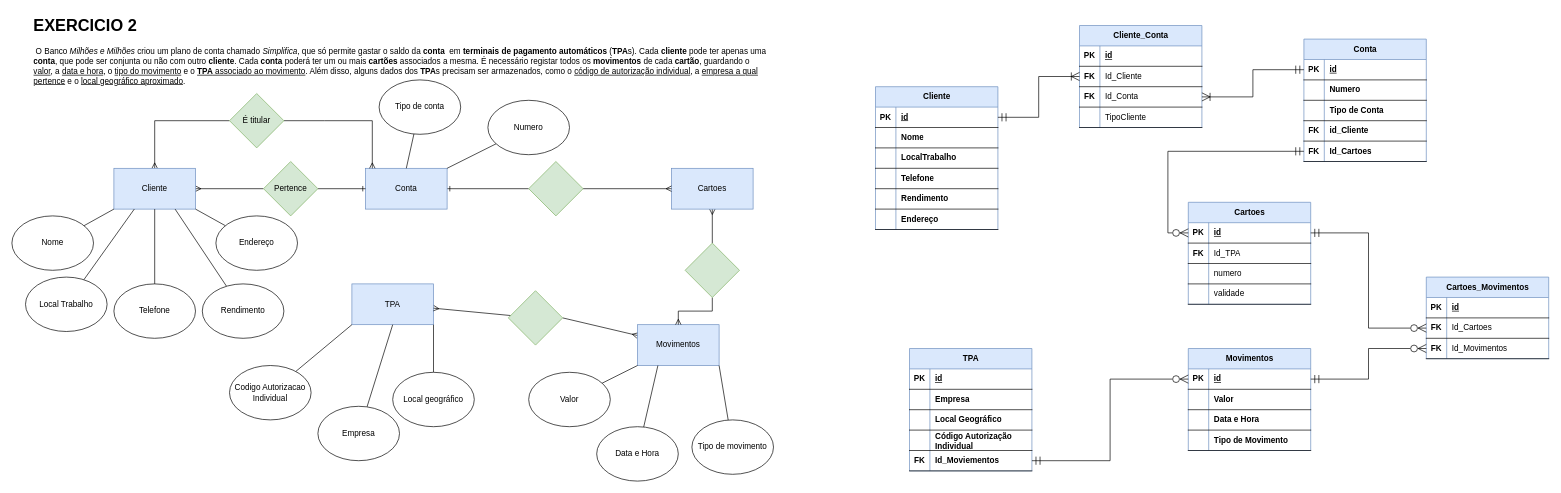
Image size: 1561x493. Some labels were removed from this diagram. Here are the shapes that lost their labels. From the top down, the centre of each, then its label:
(555,188): Tem
(712,270): Registra
(535,317): Feito
